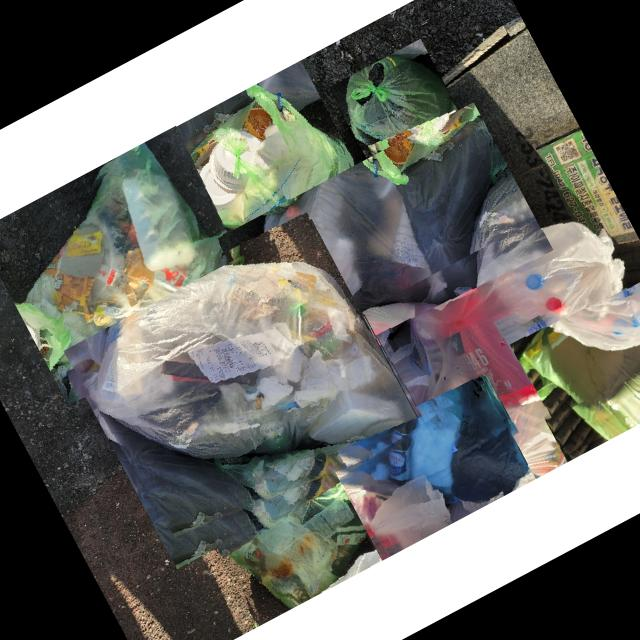general_trashbag: (23, 146, 229, 404), (162, 85, 353, 247), (214, 469, 366, 608), (515, 330, 640, 435), (346, 56, 456, 143)
other_trashbag: (90, 261, 423, 462), (250, 120, 491, 342), (411, 221, 624, 461), (337, 386, 527, 501)
